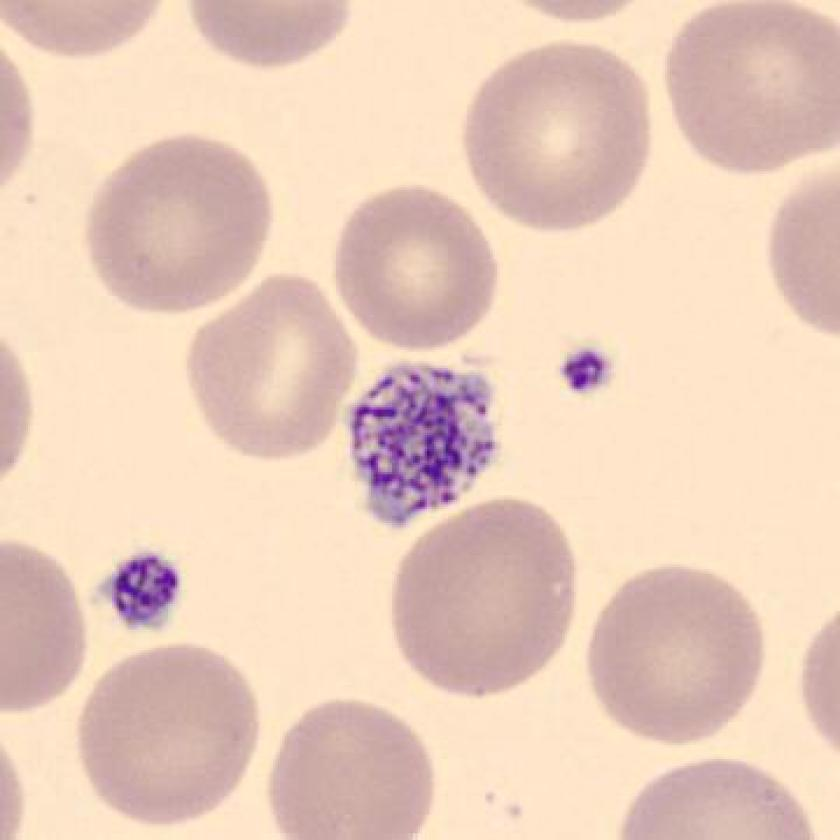platelets: (337, 355, 505, 536), (92, 547, 185, 640), (549, 337, 617, 411)
